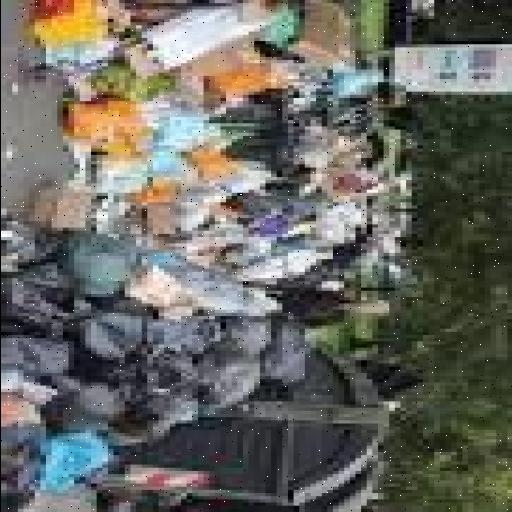poubelle_pleine: (105, 80, 402, 208)
